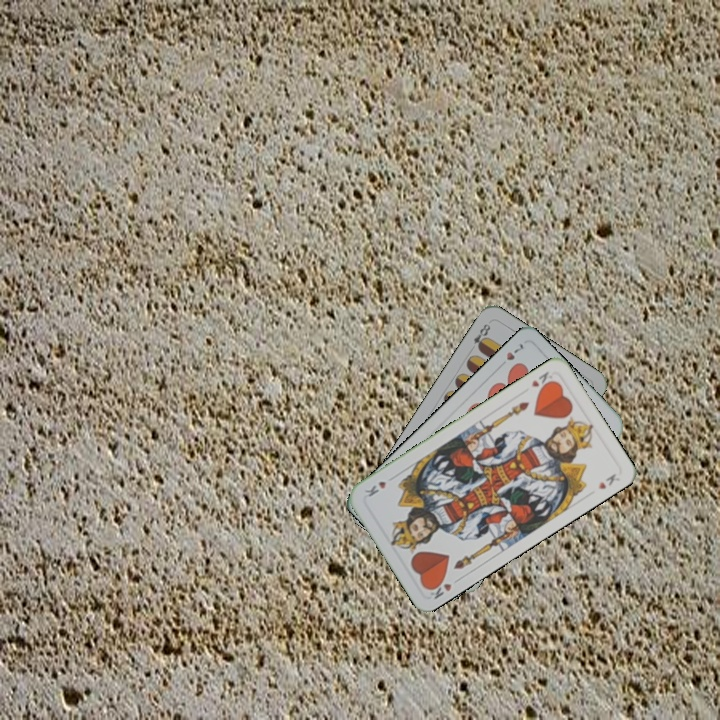E8: (469, 320, 493, 353)
H7: (494, 339, 526, 371)
HK: (423, 574, 463, 602), (527, 367, 556, 394)
